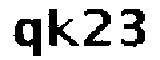2: (81, 7, 112, 51)
3: (118, 7, 149, 51)
k: (44, 7, 79, 49)
q: (12, 13, 42, 60)
